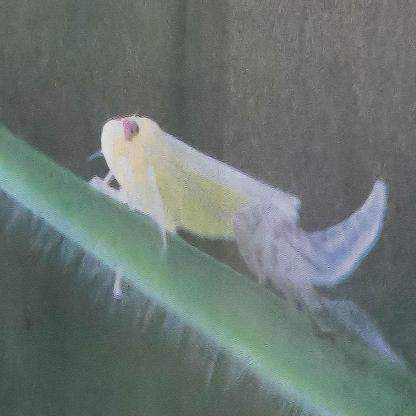Green-Leafhopper: (82, 104, 303, 262), (228, 175, 392, 313)
